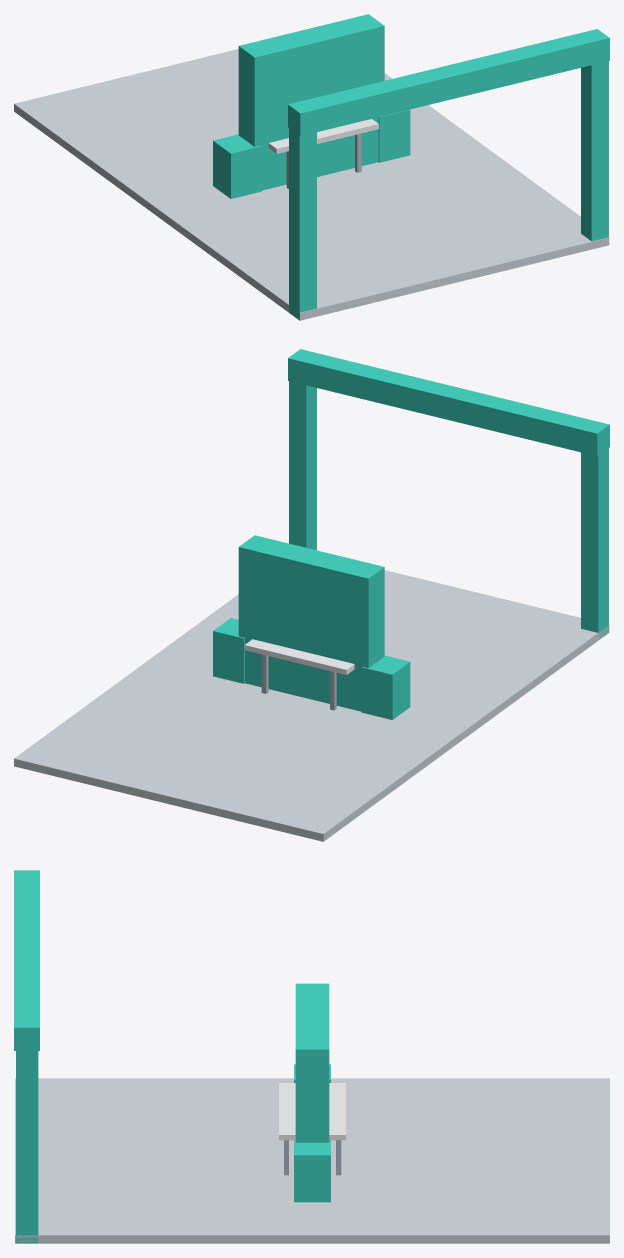
The picture shows the model from 3 angles, top to bottom: view 1: azimuth 30°, elevation 25°; view 2: azimuth 150°, elevation 25°; view 3: azimuth 270°, elevation 25°; orthographic projection. The views are drawn at different scales.
Visible parts, largest first — view 1: Exhibition Booth Concept; view 2: Exhibition Booth Concept; view 3: Exhibition Booth Concept.
Part boxes in pixels (<box>): Exhibition Booth Concept: <box>14,14,609,320</box>; Exhibition Booth Concept: <box>14,349,609,841</box>; Exhibition Booth Concept: <box>14,870,609,1243</box>.
Bounding box in the file's own units: 5 × 3.2 × 8.01.
